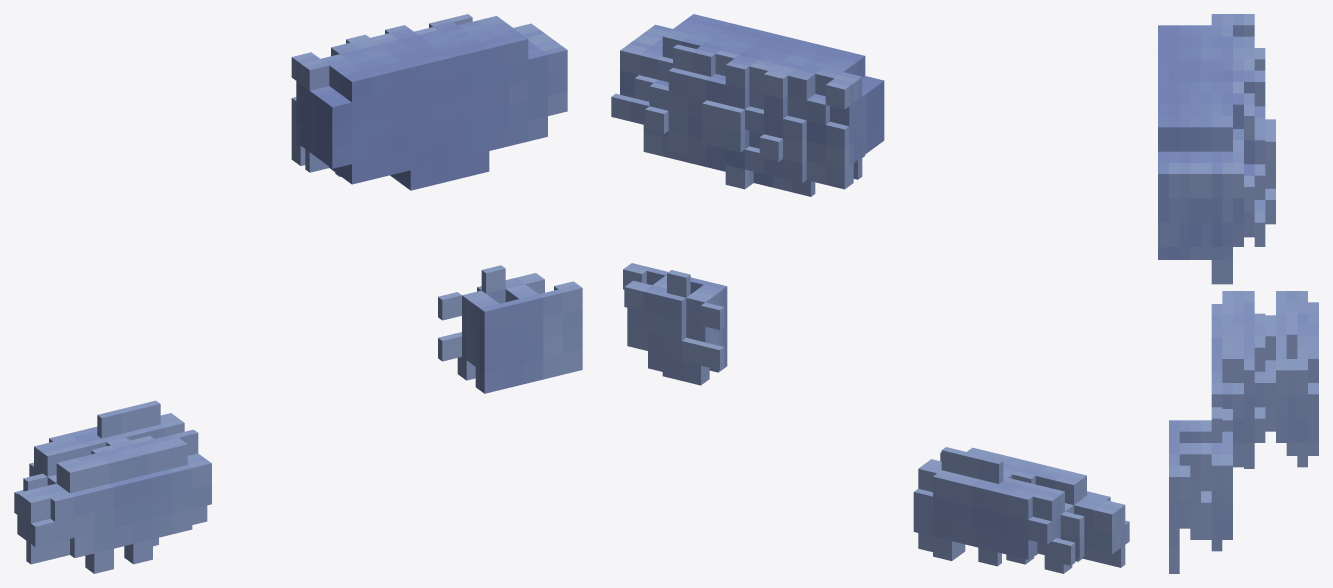
The model's file is ours.glb.
3 renders of one model, left to right at view 1: azimuth 30°, elevation 25°; view 2: azimuth 150°, elevation 25°; view 3: azimuth 270°, elevation 25°, orthographic. The views are drawn at different scales.
Visible parts, largest first — view 1: world; view 2: world; view 3: world.
Boxes of the visible parts, x1,y1,x2,y2 form: world: (14,14,582,573); world: (611,14,1129,573); world: (1158,14,1318,573).
Size of the model in its own units: 4.22 by 3.44 by 0.9375.
